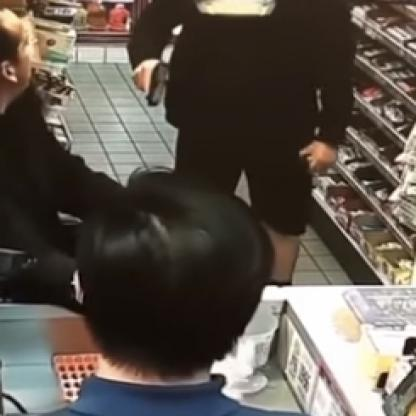weapon: (143, 58, 173, 109)
